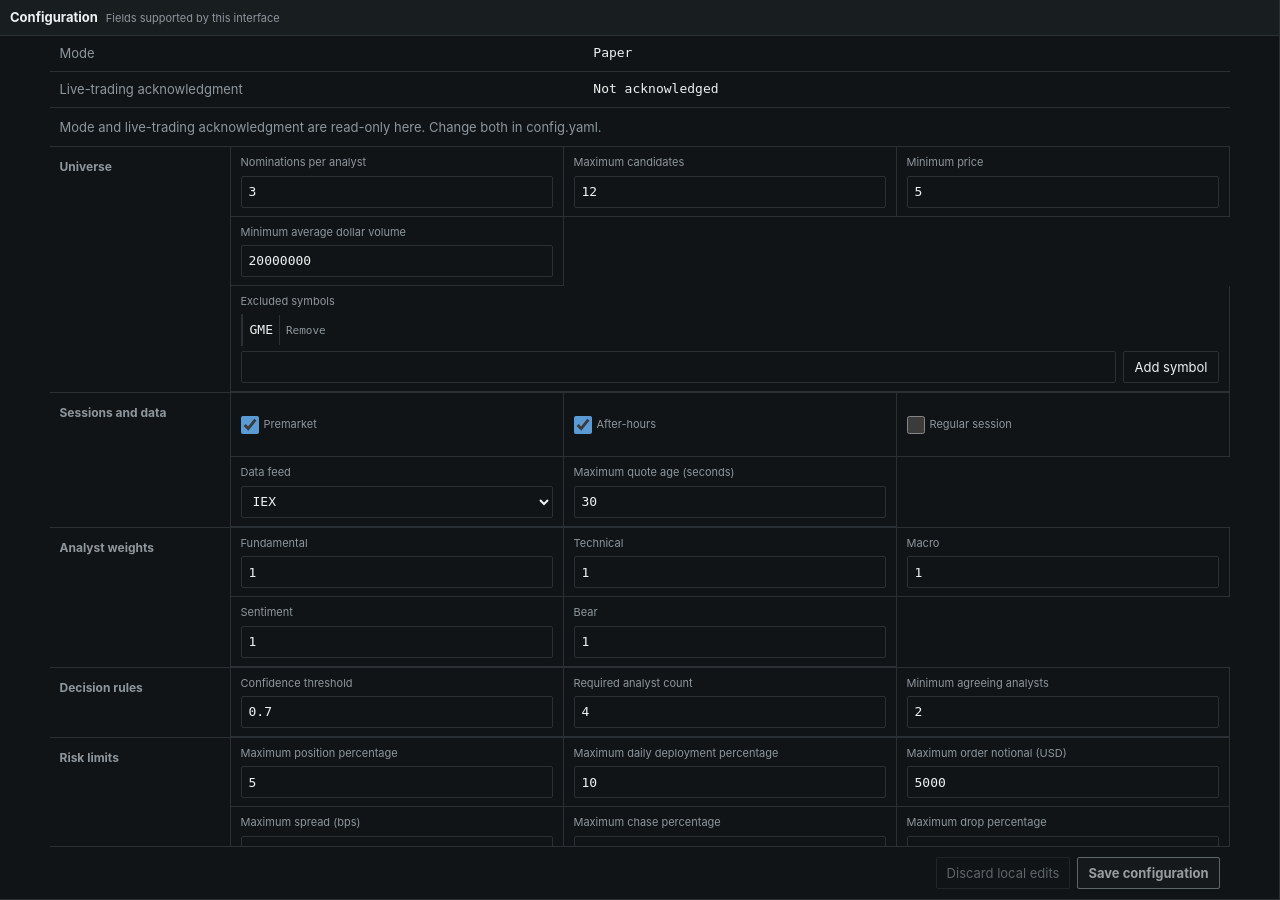
Test case: ConfigurationView › blocks empty numeric fields and focuses the first associated error
Clear the number field labelled "Nominations per analyst": (396, 192) [240,176,552,208]
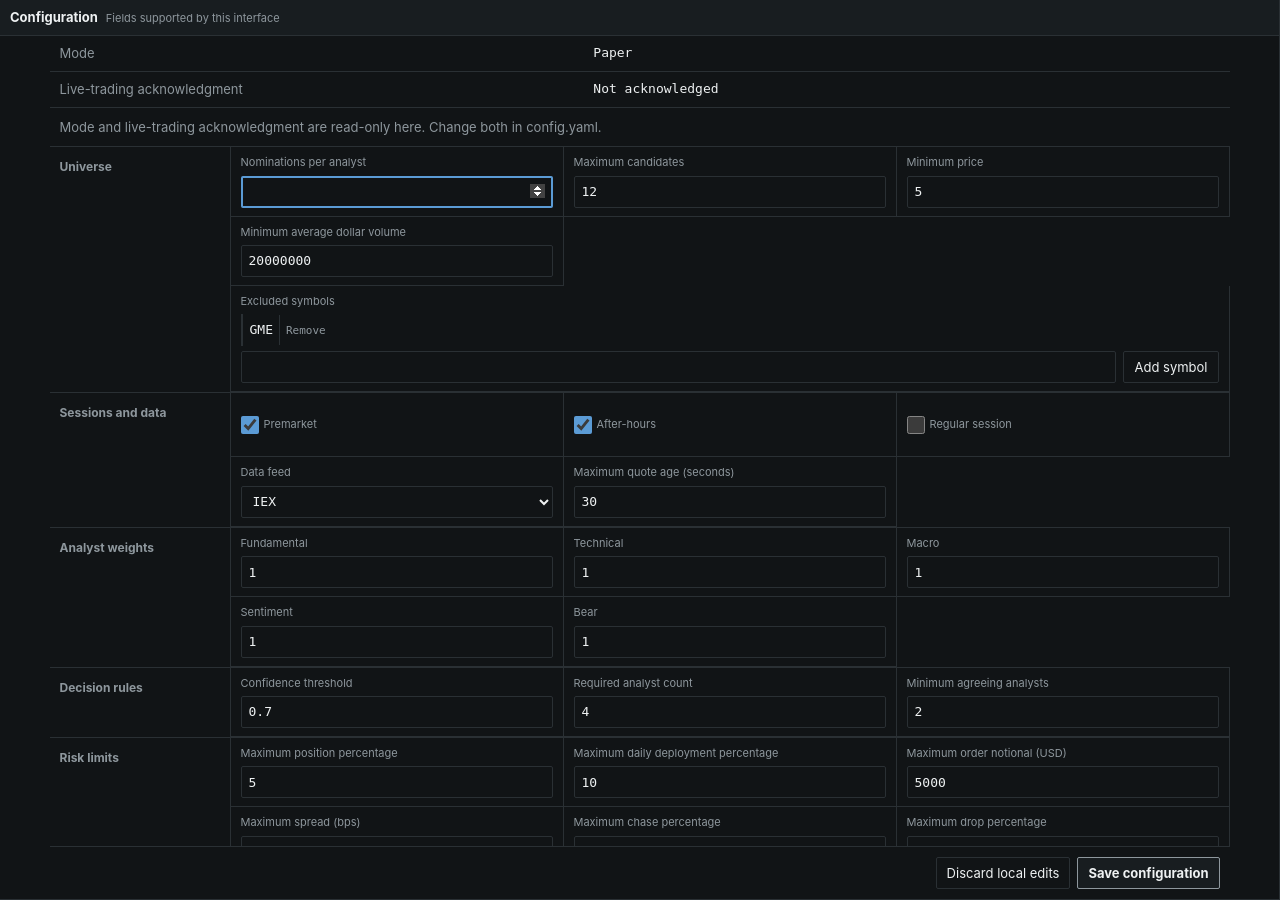
Clear the number field labelled "Confidence threshold": (396, 712) [240,696,552,728]
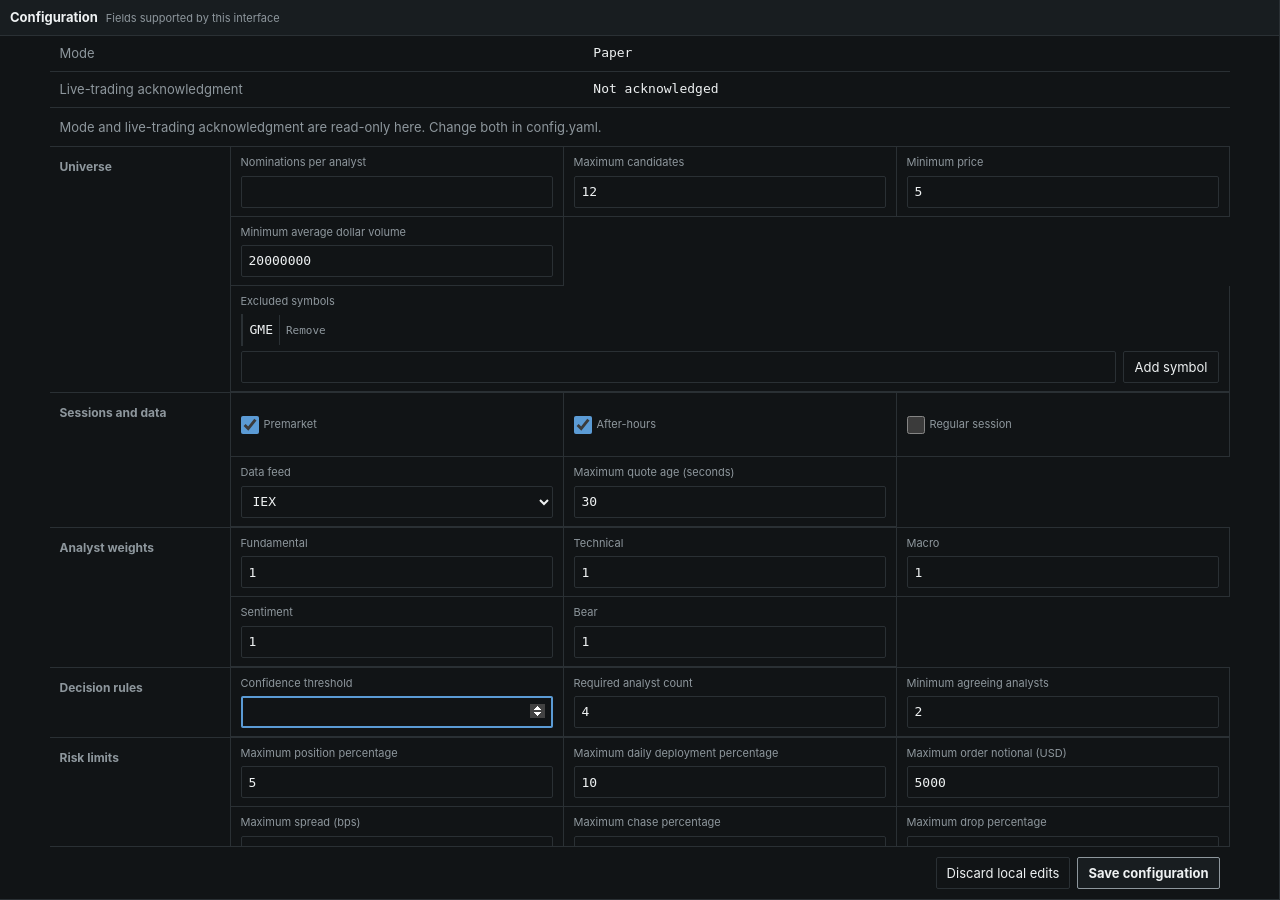
Click the button "Save configuration": click(1148, 873) [1077,857,1220,889]
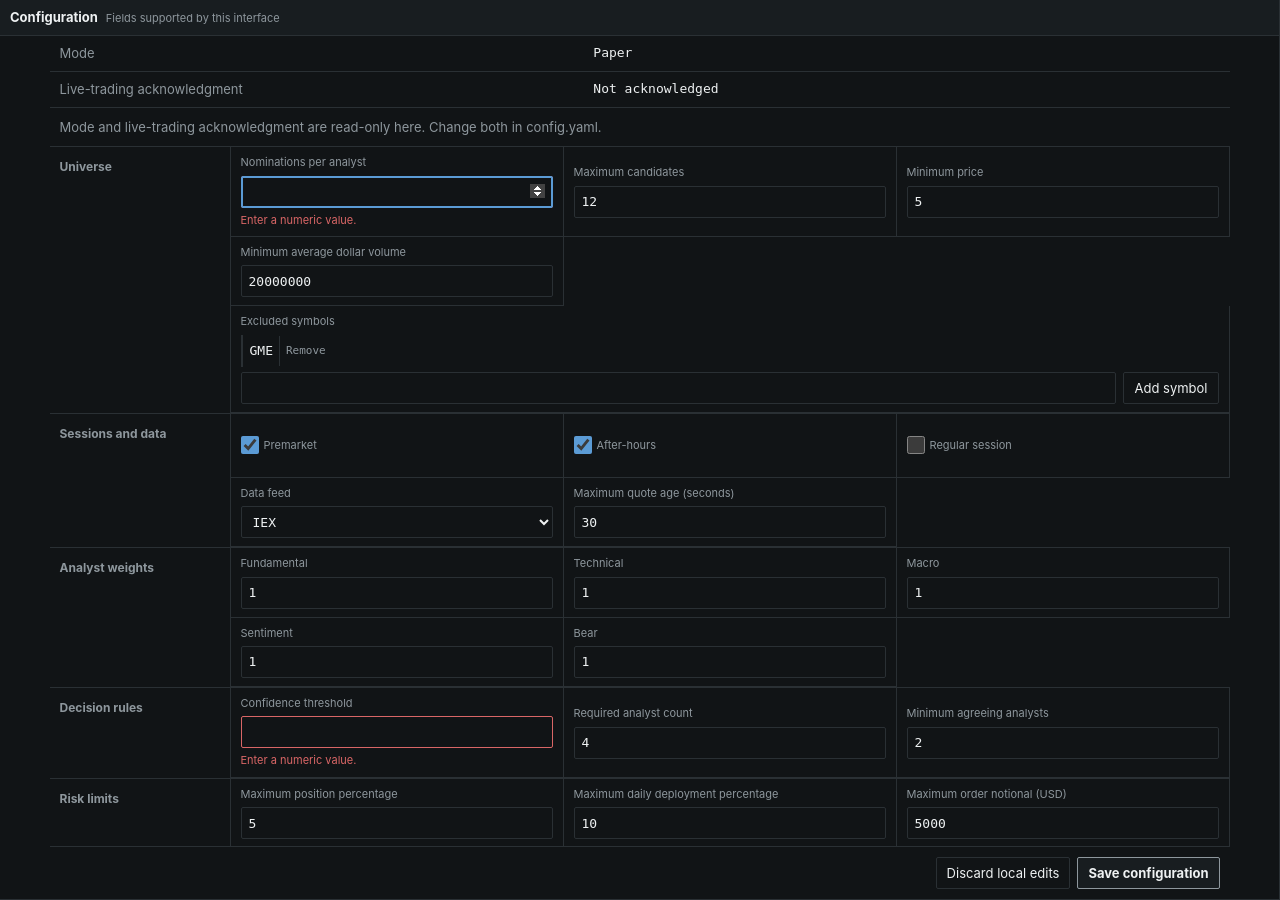
Expected: the text "Enter a numeric value." below "Confidence threshold" is shown, [240,753,356,767]
